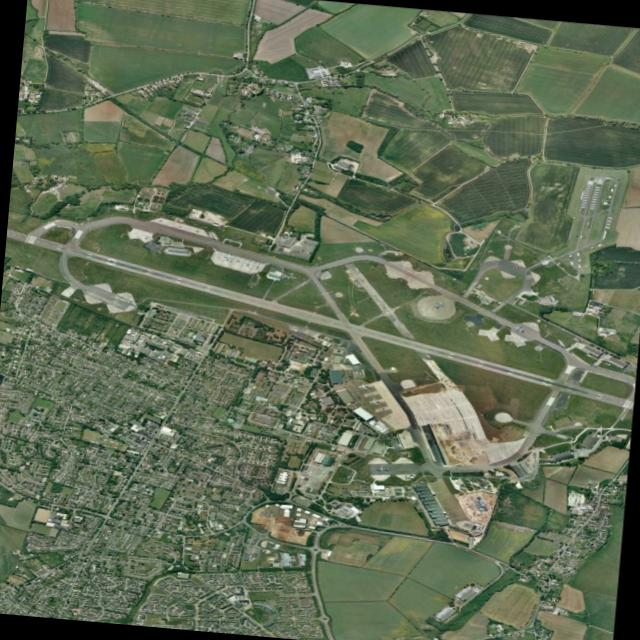plane: (432, 297, 448, 310), (511, 323, 525, 334), (357, 381, 369, 392), (367, 397, 380, 406)
